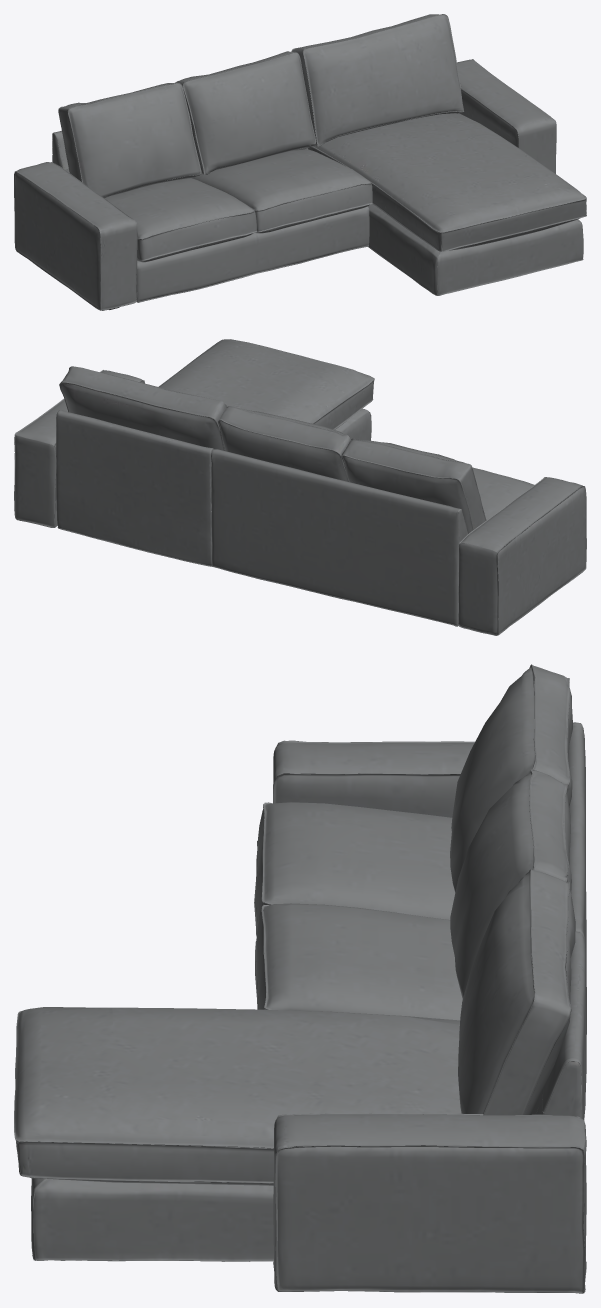
The model's file is 18 - KIVIK - 三人座沙發附躺椅，Tibbleby 米色灰色 IKEA 線上購物.glb.
3 views of the same model, one above another, from view 1: azimuth 30°, elevation 25°; view 2: azimuth 150°, elevation 25°; view 3: azimuth 270°, elevation 25° (orthographic). The views are drawn at different scales.
Visible parts, largest first — view 1: Mesh_0; view 2: Mesh_0; view 3: Mesh_0.
Part boxes in pixels (left/top/right/bottom): Mesh_0: left=14, top=14, right=586, bottom=310; Mesh_0: left=14, top=339, right=586, bottom=635; Mesh_0: left=14, top=664, right=586, bottom=1293.
Size of the model in its own units: 2.77 by 0.8686 by 1.65.
1 material, 1 textured.
